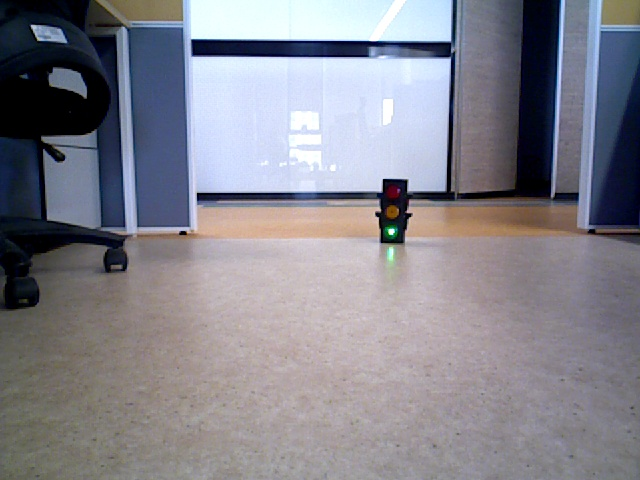green: (381, 181, 405, 240)
